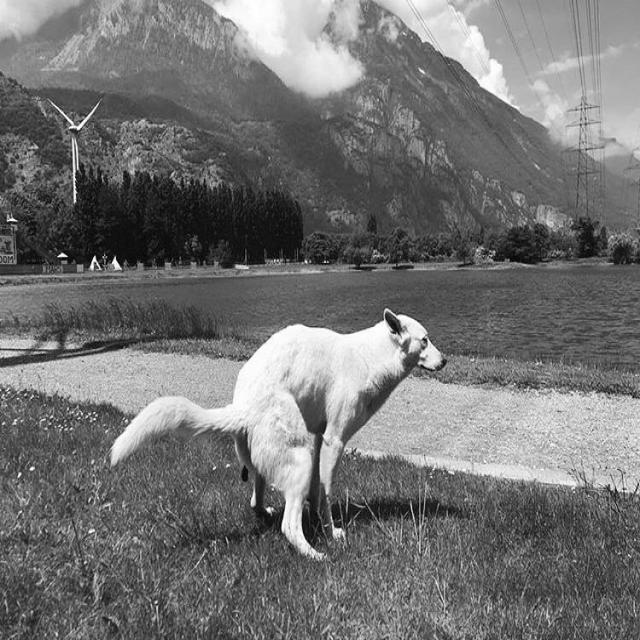squatting: (106, 304, 460, 564)
